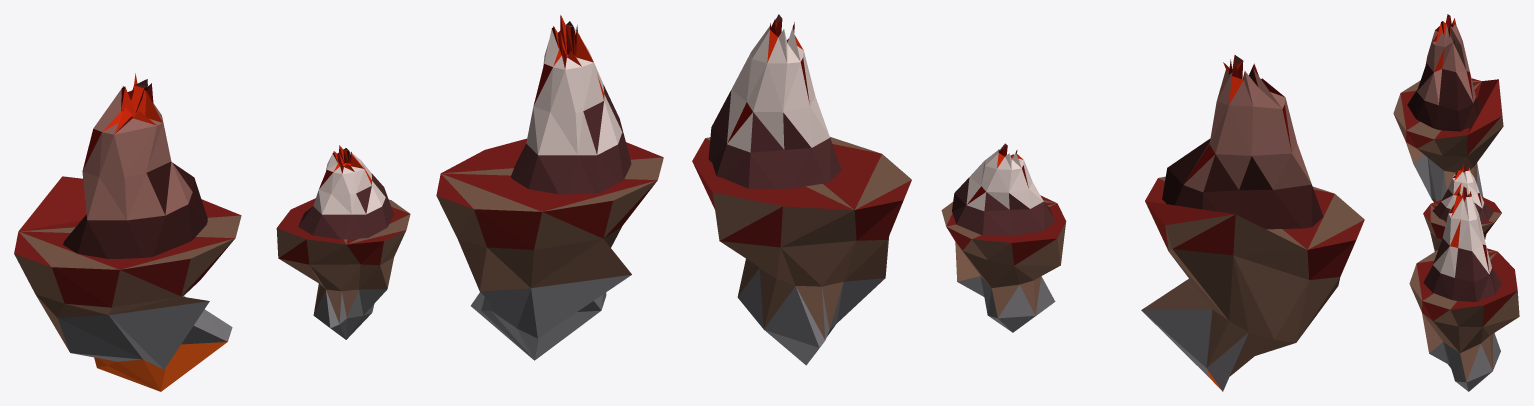
Rendered from vulkane.fbx.
3 renders of one model, left to right at view 1: azimuth 30°, elevation 25°; view 2: azimuth 150°, elevation 25°; view 3: azimuth 270°, elevation 25°, orthographic. The views are drawn at different scales.
Parts seen in each view (by area): view 1: Cone.003, Cone.004, Cone.005, Cone.002, Cone, Cone.001; view 2: Cone.003, Cone.004, Cone.005, Cone.002, Cone, Cone.001; view 3: Cone.003, Cone.004, Cone.005, Cone.002, Cone.001, Cone.
Part boxes in pixels (left/top/right/bottom): Cone.003: left=436, top=138, right=663, bottom=360; Cone.004: left=14, top=176, right=241, bottom=391; Cone.005: left=63, top=73, right=207, bottom=258; Cone.002: left=510, top=15, right=631, bottom=194; Cone: left=276, top=198, right=410, bottom=339; Cone.001: left=298, top=145, right=393, bottom=239; Cone.003: left=692, top=137, right=911, bottom=365; Cone.004: left=1141, top=176, right=1364, bottom=391; Cone.005: left=1162, top=55, right=1323, bottom=229; Cone.002: left=708, top=14, right=841, bottom=188; Cone: left=941, top=195, right=1066, bottom=332; Cone.001: left=952, top=143, right=1054, bottom=235; Cone.003: left=1409, top=248, right=1519, bottom=391; Cone.004: left=1393, top=78, right=1503, bottom=202; Cone.005: left=1407, top=14, right=1481, bottom=131; Cone.002: left=1423, top=186, right=1502, bottom=301; Cone.001: left=1432, top=164, right=1493, bottom=223; Cone: left=1423, top=197, right=1501, bottom=251.
Size of the model in its own units: 2619 by 1531 by 701.
